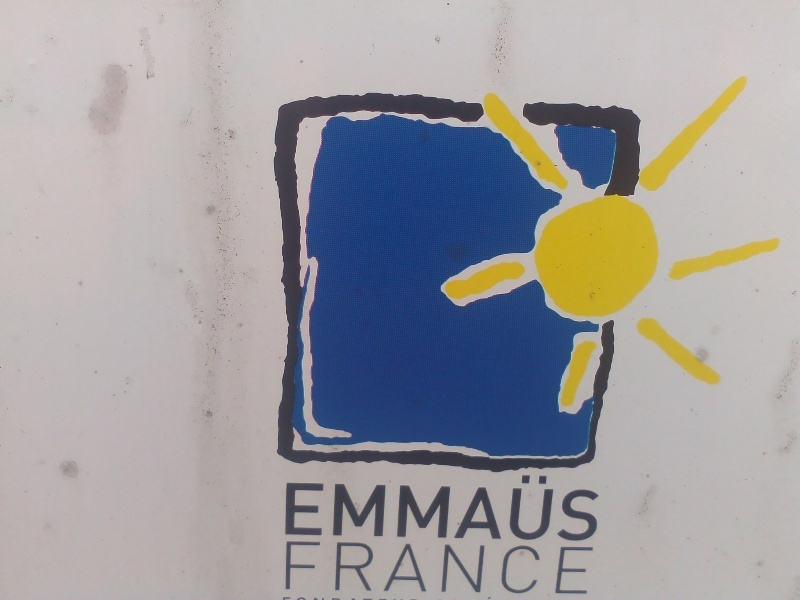text: (289, 472, 304, 542), (305, 472, 320, 542), (321, 472, 336, 542), (337, 472, 352, 542), (353, 472, 368, 542), (369, 472, 384, 542), (385, 472, 400, 542), (401, 472, 416, 542), (417, 472, 432, 542), (433, 472, 448, 542), (449, 472, 464, 542), (465, 472, 480, 542), (481, 472, 496, 542), (497, 472, 512, 542), (513, 472, 528, 542), (529, 472, 544, 542), (545, 472, 560, 542), (561, 472, 576, 542), (577, 472, 592, 542), (289, 540, 304, 595), (305, 540, 320, 595), (321, 540, 336, 595), (337, 540, 352, 595), (353, 540, 368, 595), (369, 540, 384, 595), (385, 540, 400, 595), (401, 540, 416, 595), (417, 540, 432, 595), (433, 540, 448, 595), (449, 540, 464, 595), (465, 540, 480, 595), (481, 540, 496, 595), (497, 540, 512, 595), (513, 540, 528, 595), (529, 540, 544, 595), (545, 540, 560, 595), (561, 540, 576, 595), (577, 540, 592, 595), (593, 472, 603, 542), (284, 472, 288, 542), (593, 540, 597, 595), (285, 540, 288, 595)
